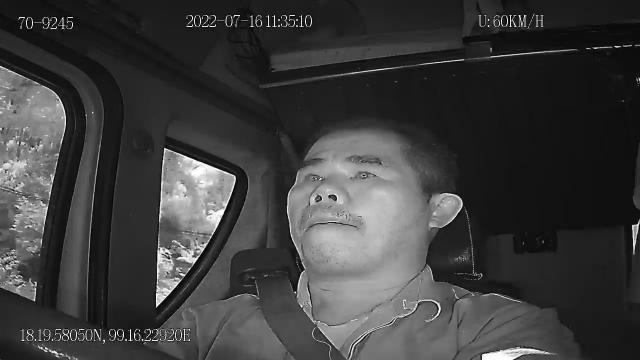SafeDriving: (342, 158, 386, 187), (294, 165, 328, 189)
Seatbelt: (254, 274, 350, 360)
